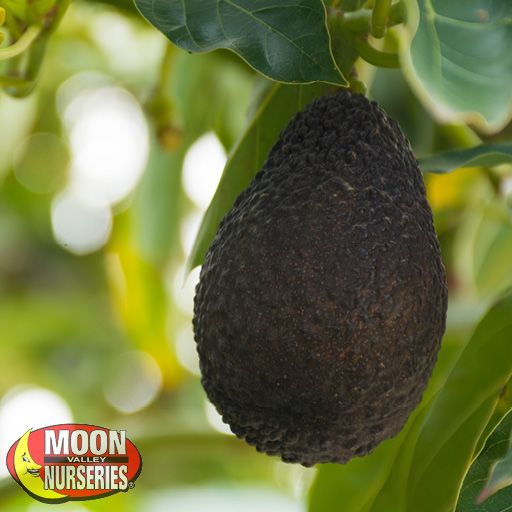fit_avocado: (187, 81, 446, 478)
